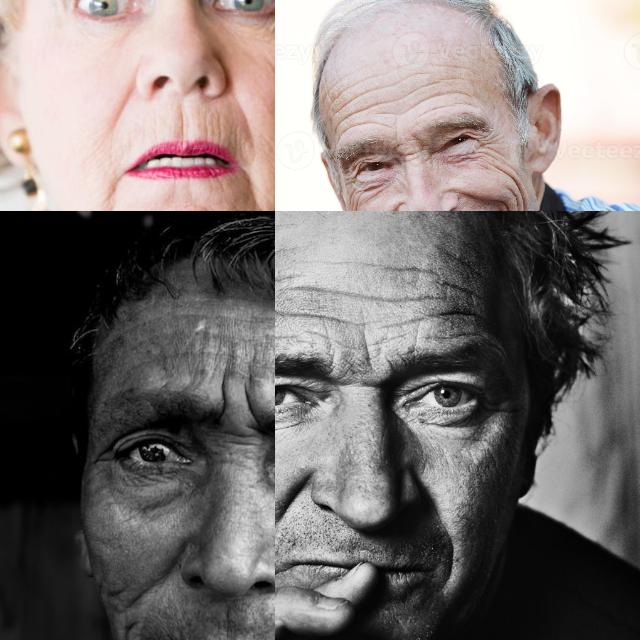crows_feet: (90, 442, 116, 478), (478, 130, 500, 160), (340, 168, 360, 196)
forehead: (275, 298, 341, 339), (334, 254, 426, 282), (356, 282, 430, 316), (442, 270, 483, 322), (403, 72, 443, 111), (371, 318, 411, 356), (332, 88, 362, 134), (366, 80, 392, 128), (275, 269, 311, 292), (449, 84, 475, 108)
frown_line: (212, 381, 256, 433), (334, 364, 382, 394), (350, 332, 380, 376), (398, 141, 422, 165)
gummy_smile: (276, 473, 314, 527), (412, 476, 451, 522), (127, 563, 157, 611), (458, 184, 490, 206)
masseter: (499, 166, 529, 210)
sad_smile: (443, 538, 467, 594), (116, 622, 142, 640)
smoker_lines: (203, 112, 223, 144), (218, 608, 236, 640), (175, 110, 188, 142)
